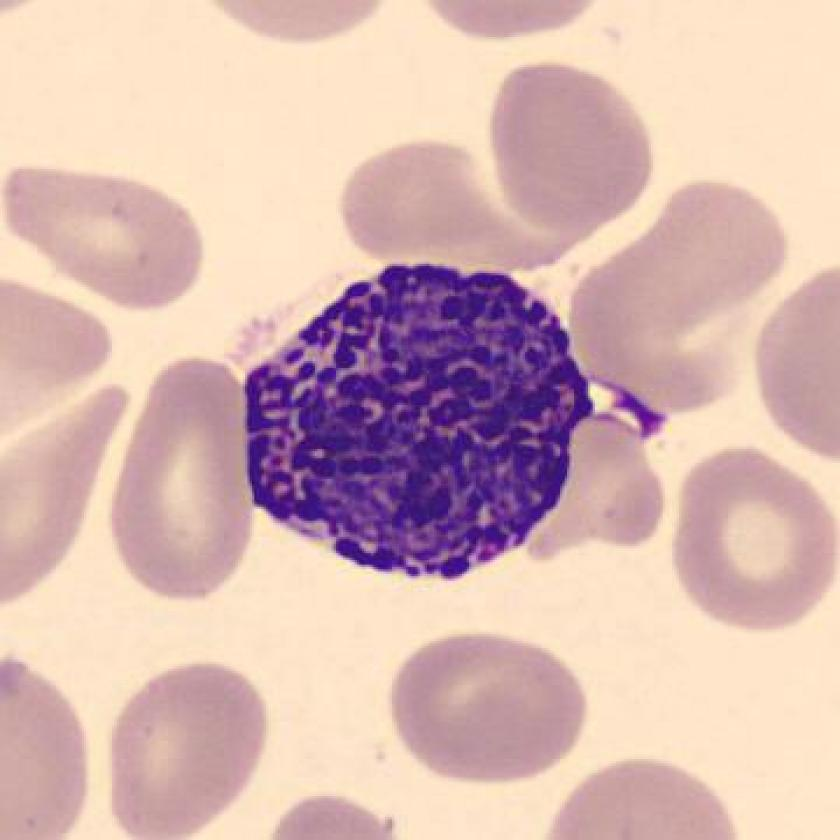basophil: (235, 263, 592, 577)
